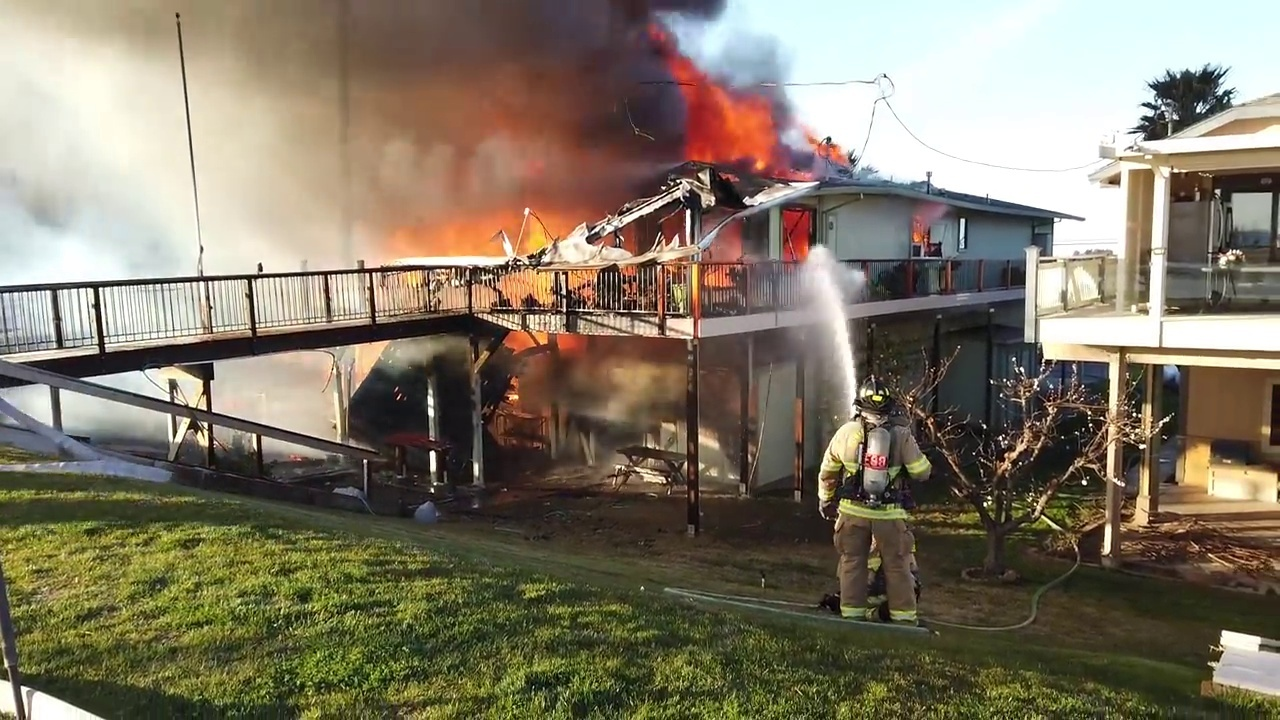fire: (390, 196, 635, 302), (664, 26, 798, 172), (800, 119, 853, 164), (782, 209, 814, 261), (501, 371, 528, 411), (910, 212, 928, 245)
smoke: (1, 1, 362, 267), (364, 1, 683, 188), (535, 335, 730, 444), (214, 361, 339, 437), (59, 391, 168, 468), (368, 339, 473, 404)
